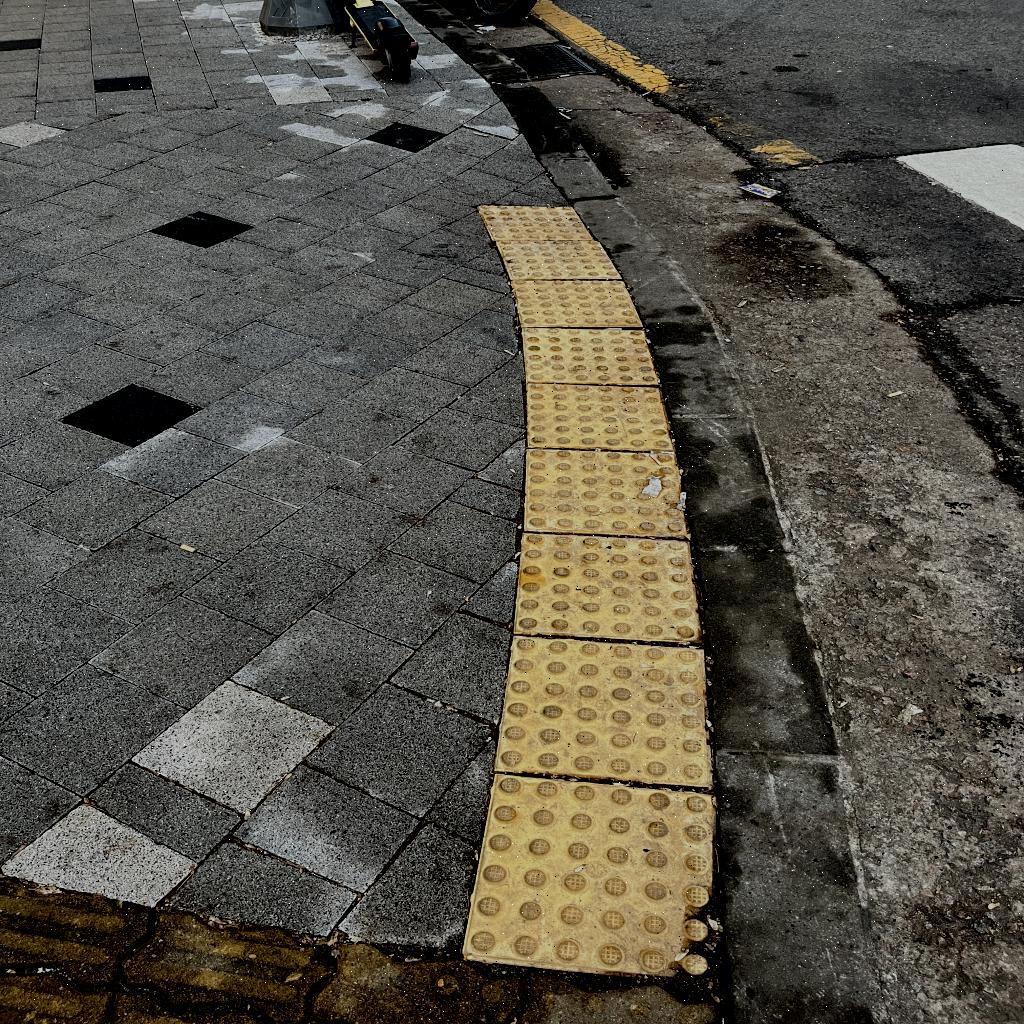Stop block broken: (525, 450, 691, 536)
Stop block normal: (496, 636, 720, 787), (516, 533, 705, 642), (525, 384, 674, 450), (522, 328, 660, 384), (513, 280, 641, 327), (498, 242, 620, 279), (478, 206, 593, 241)
